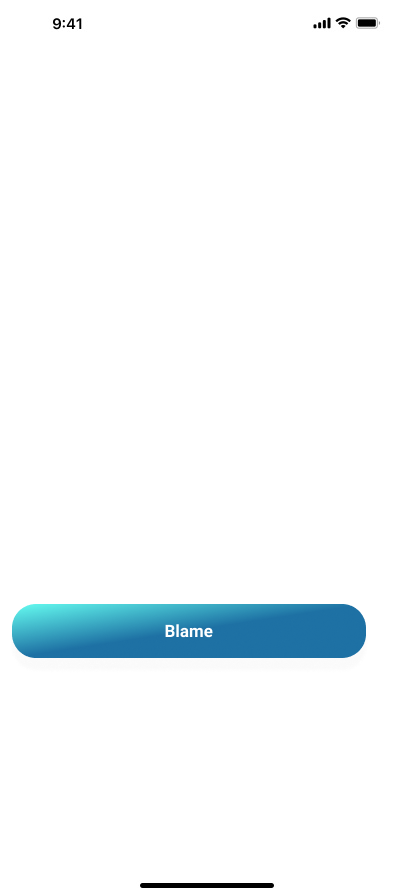Buttons: (8, 604, 374, 674)
Home Indicator: (0, 862, 414, 896)
Status Bar: (0, 0, 414, 44)
